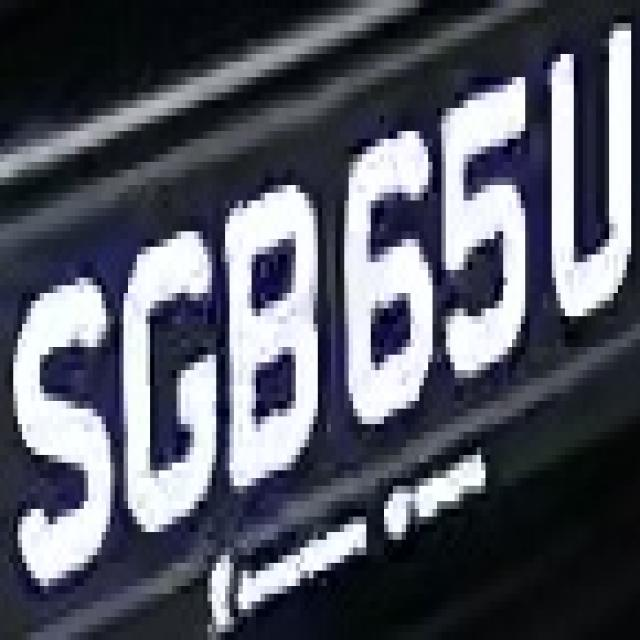5: (428, 54, 543, 416)
6: (335, 85, 446, 455)
B: (220, 170, 318, 501)
G: (102, 231, 225, 532)
S: (13, 239, 124, 601)
U: (543, 0, 640, 324)
